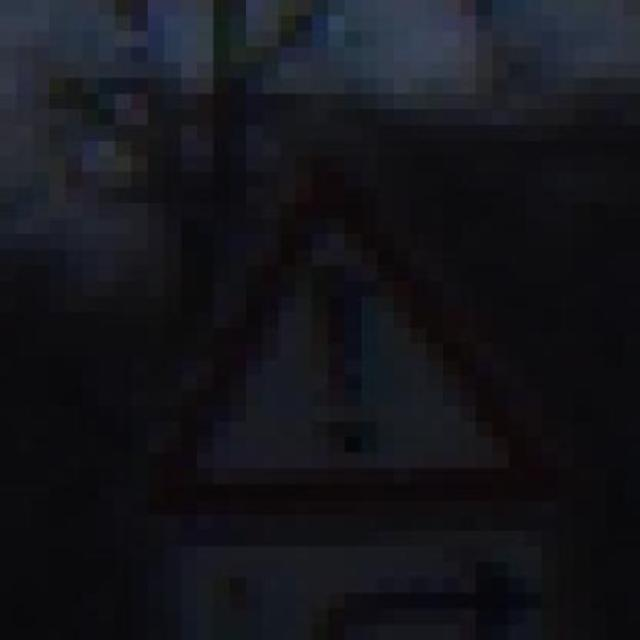Attention Please-: (113, 156, 556, 547)
